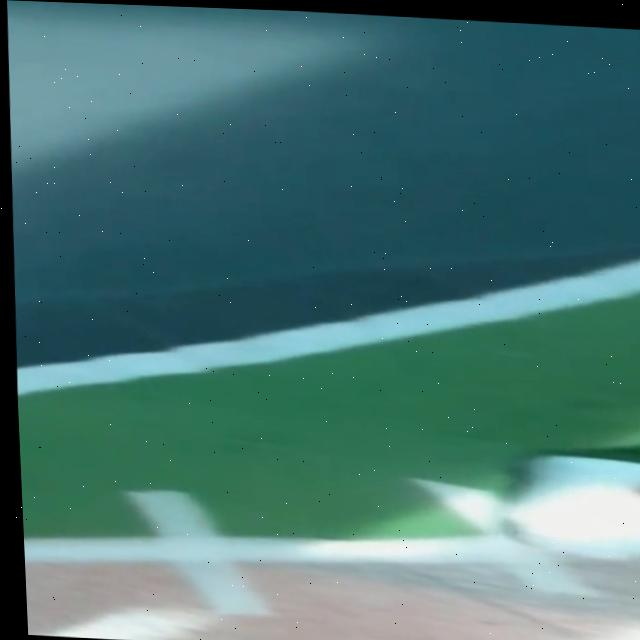right: (16, 258, 640, 393)
